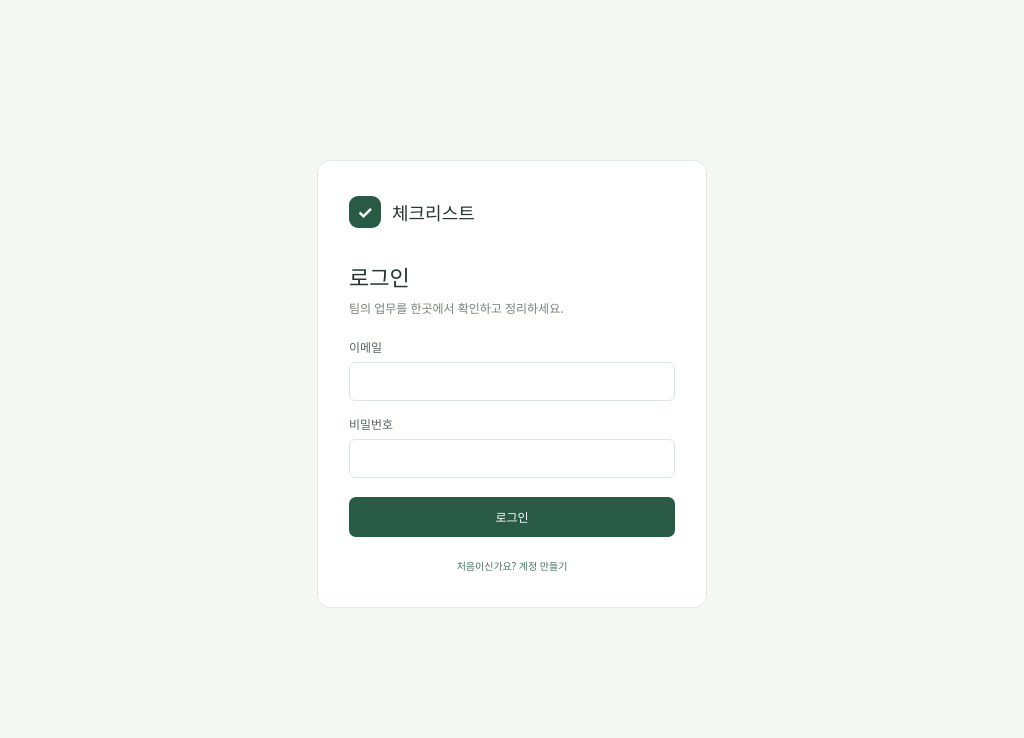
Scenario: 체크리스트 사용자 흐름 › 한 부모를 접어도 다른 부모는 펼친 상태를 유지하고 키보드로 토글할 수 있다
Type "minji@example.com" into the field labelled "이메일" at (512, 382), box [349,362,675,401]
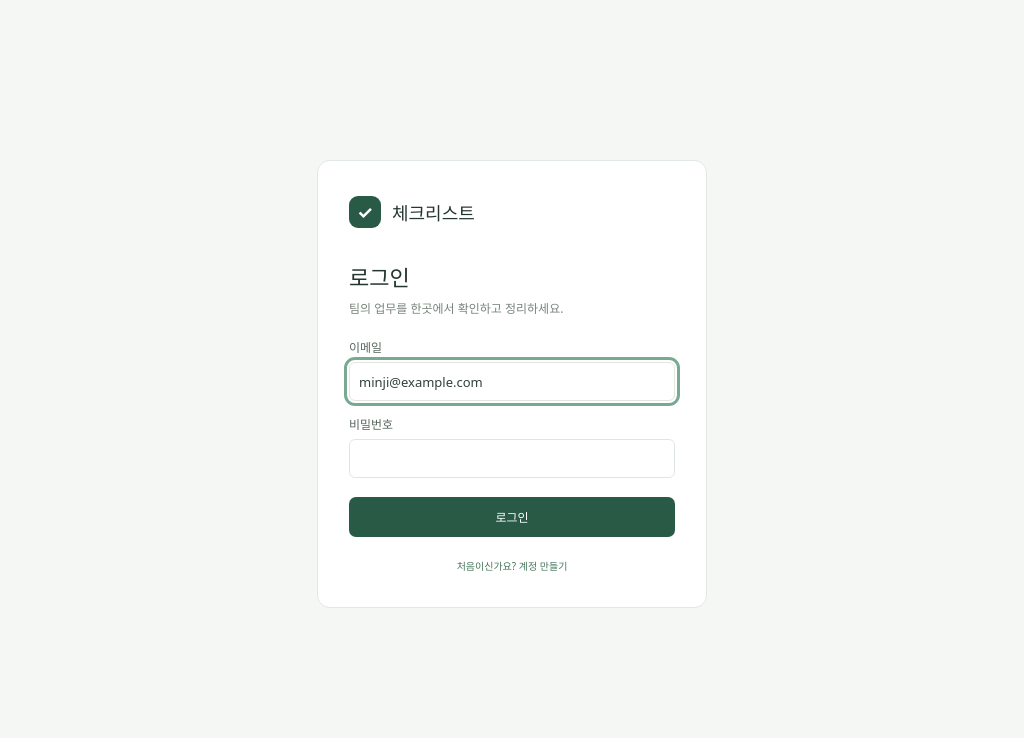
Type "secure-pass-1" into the password field labelled "비밀번호" at (512, 458), box [349,439,675,478]
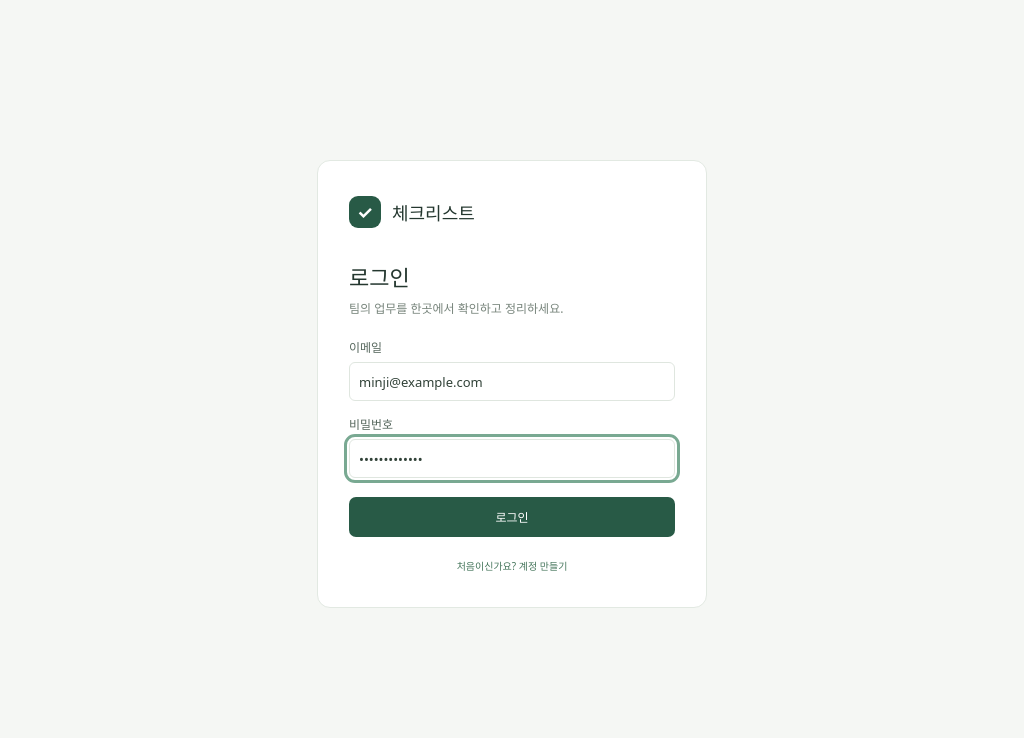
Click the button "로그인" at (512, 517), box [349,497,675,537]
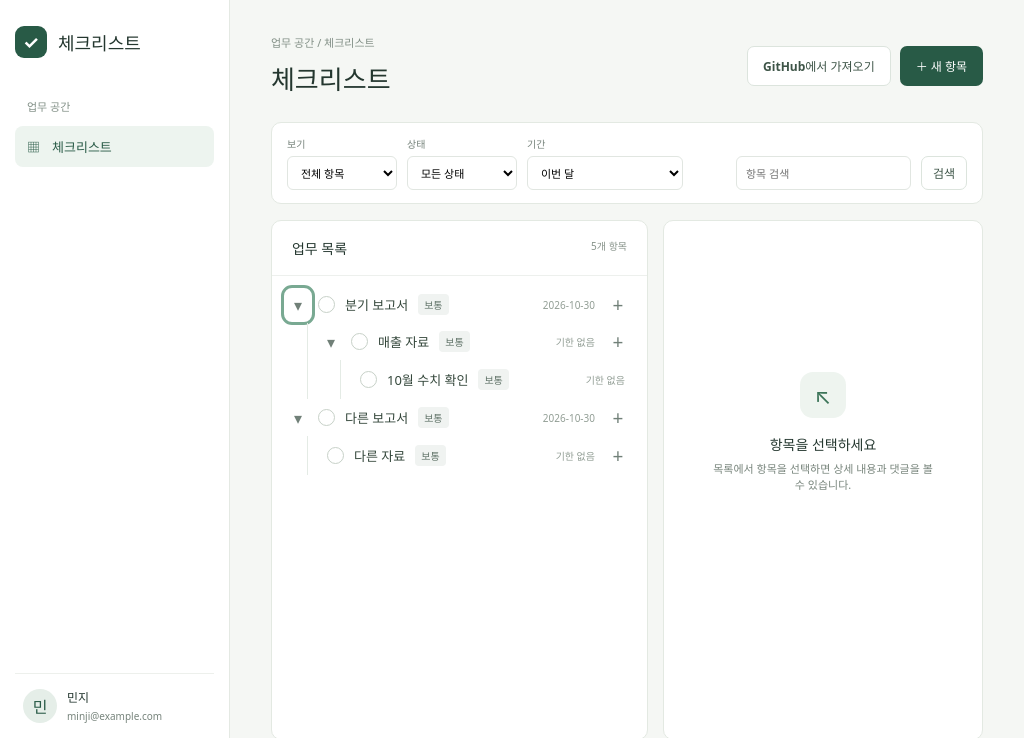
expect the button "분기 보고서 보통 2026-10-30" is shown: met, box [310,286,603,323]
Press Enter
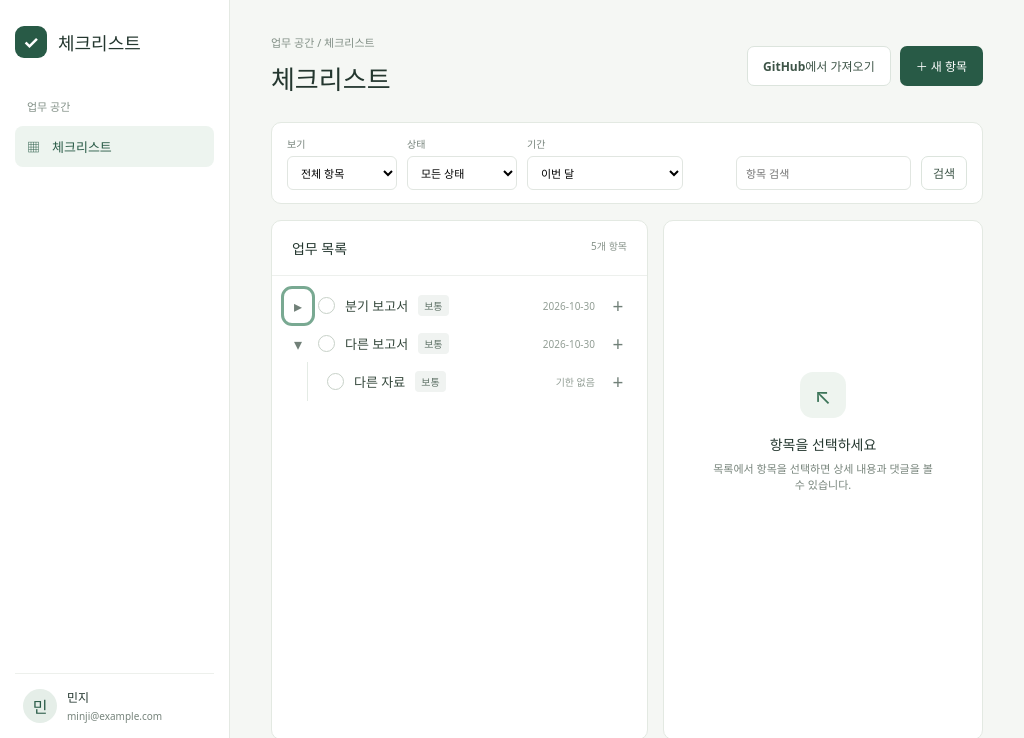
expect the button "다른 자료 보통 기한 없음" is shown: met, box [319,363,603,400]
expect the button named "분기 보고서 하위 항목 접기" is collapsed: met, box [286,290,310,320]
expect the button "매출 자료" is gone: met
Type keys " "
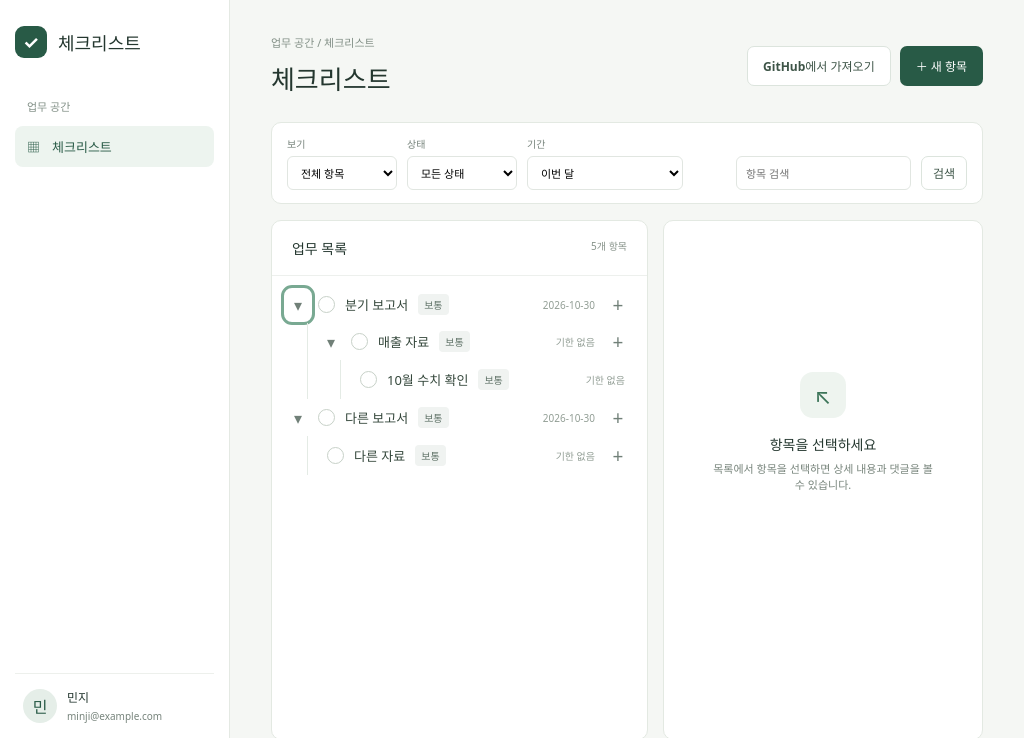
expect the button named "분기 보고서 하위 항목 접기" is expanded: met, box [286,290,310,320]
expect the button "10월 수치 확인 보통 기한 없음" is shown: met, box [352,361,633,398]
